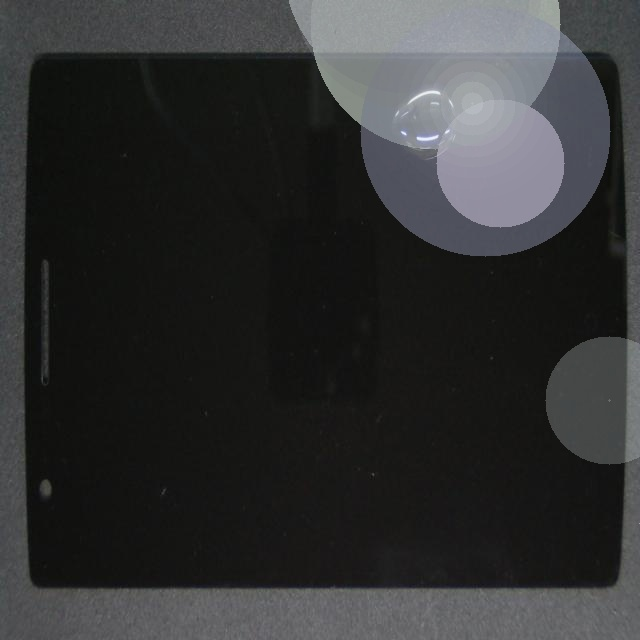oil: (239, 45, 640, 136)
